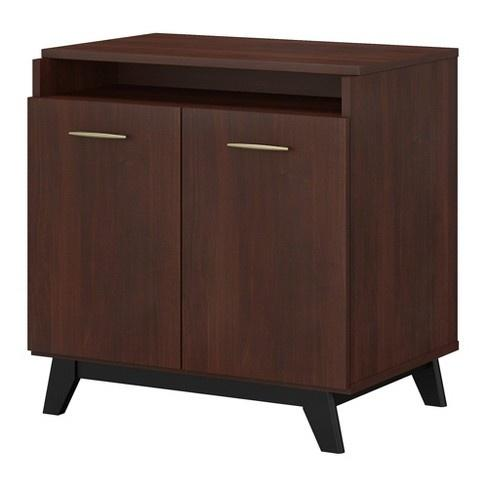cabinet_door: (181, 119, 345, 373), (29, 109, 182, 359)
handle: (222, 133, 297, 160), (64, 123, 134, 147)
